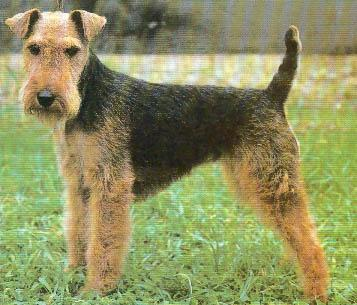wire-haired_fox_terrier: (5, 9, 329, 304)
